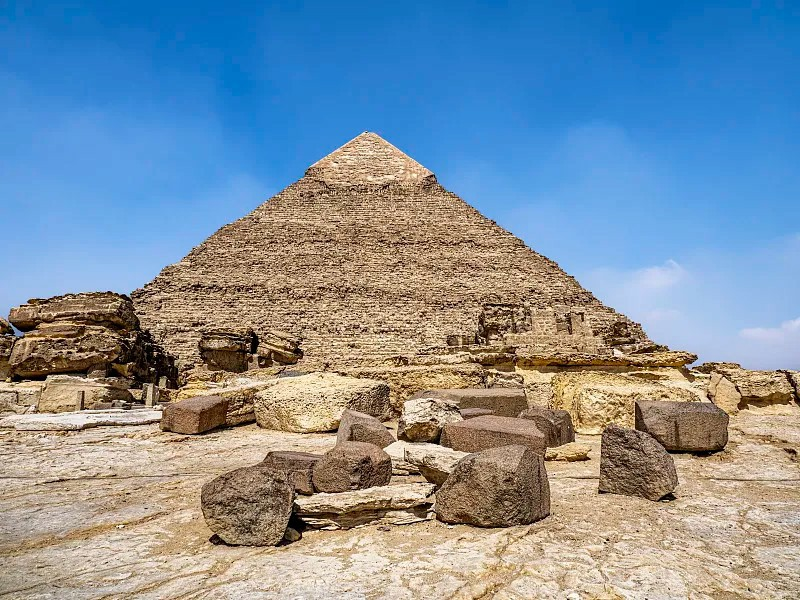Pyramid: (127, 131, 654, 357)
